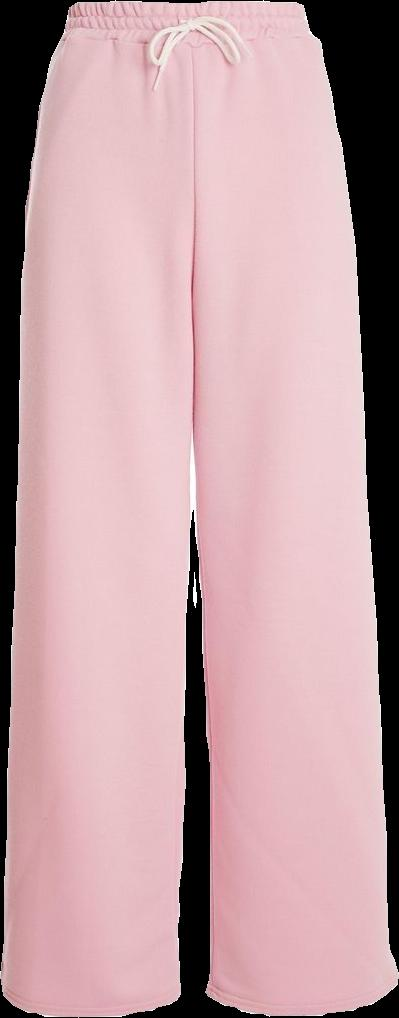Hemline: (202, 973, 398, 1016), (0, 982, 182, 1017)
Pantleg: (190, 0, 398, 1014), (1, 0, 195, 1014)
Waistline: (61, 21, 316, 43), (68, 0, 304, 11)
